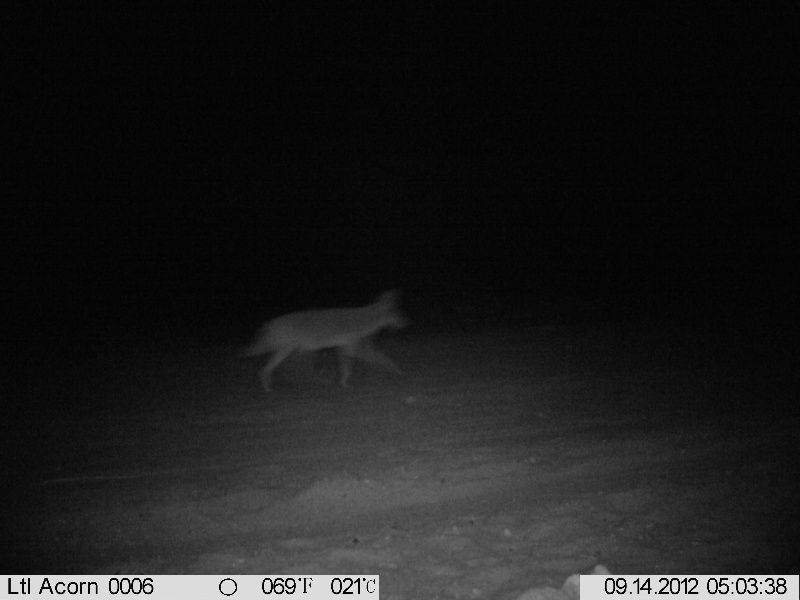coyote: (242, 286, 414, 398)
